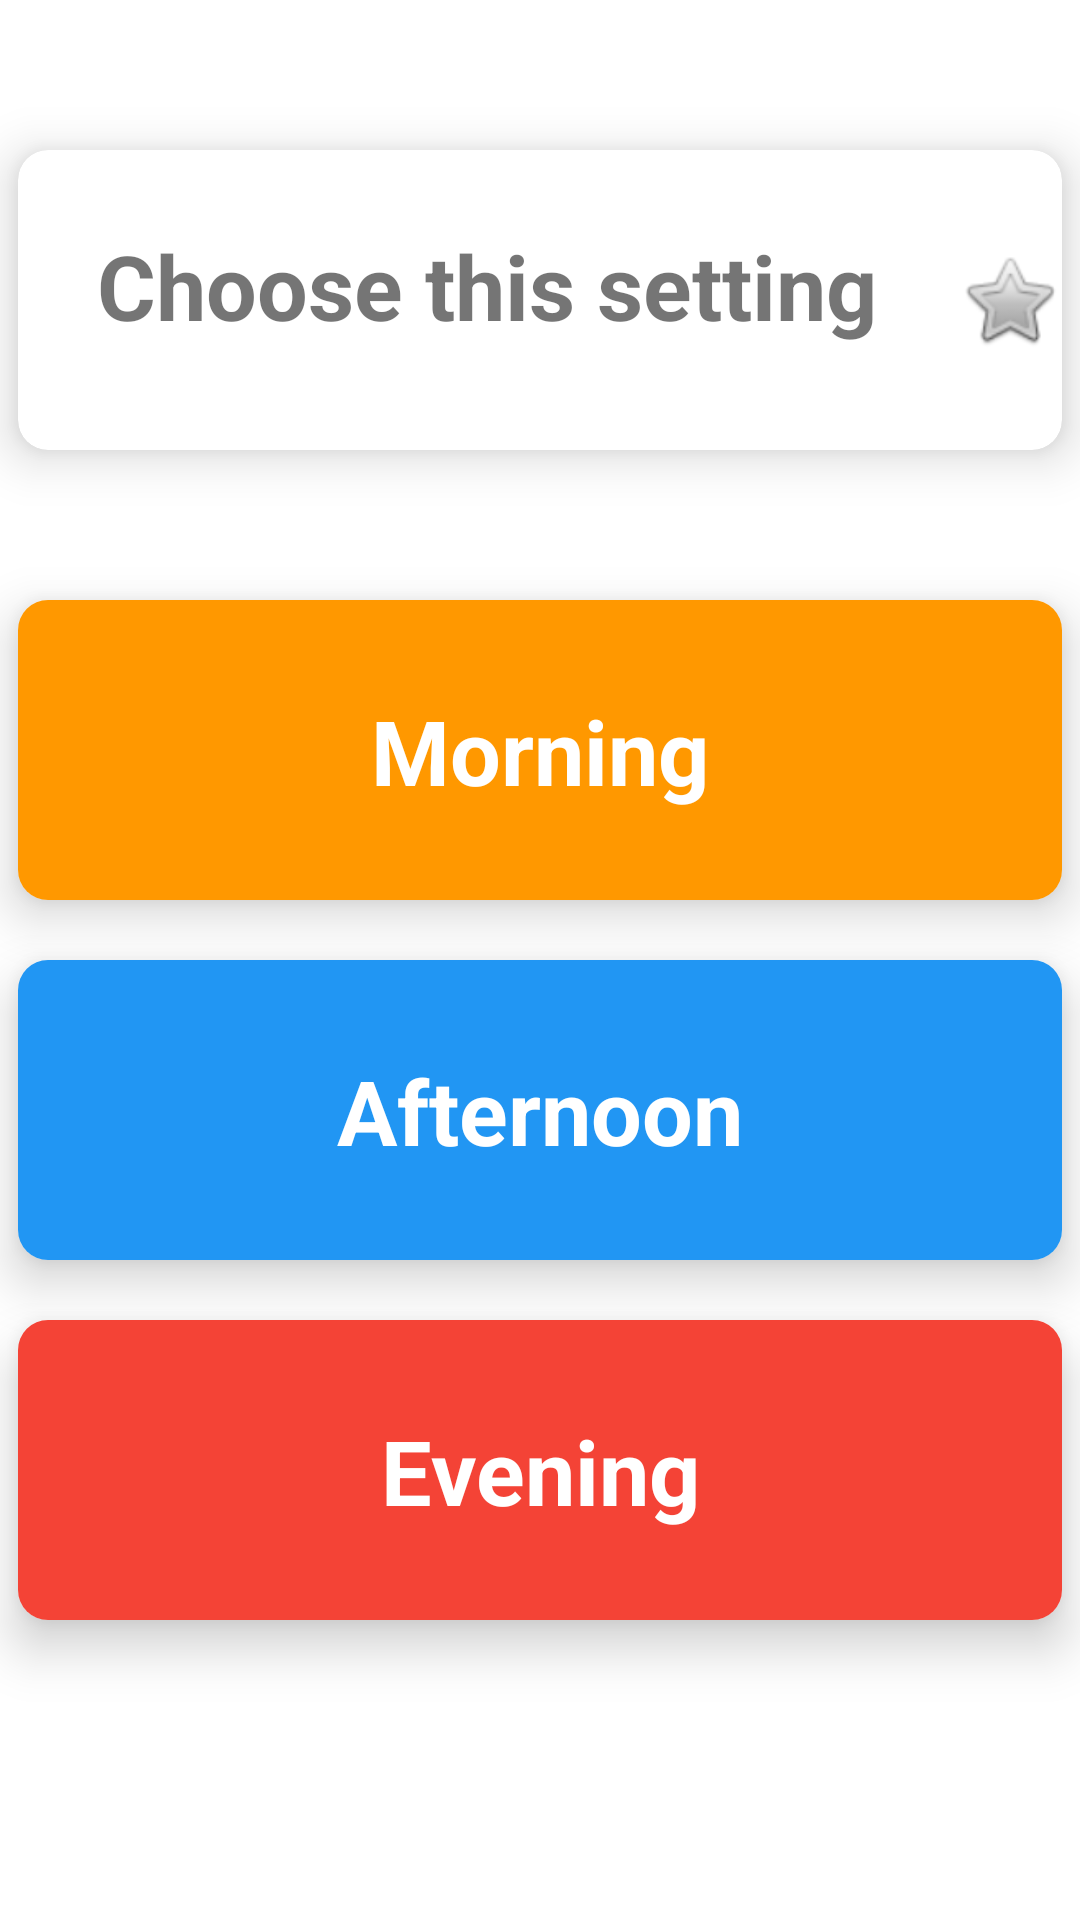

Icon bounding boxes for this 1080 × 1920 phone screenshot, format [x1, y1, x2, y2]:
star off: [967, 163, 1058, 344]
